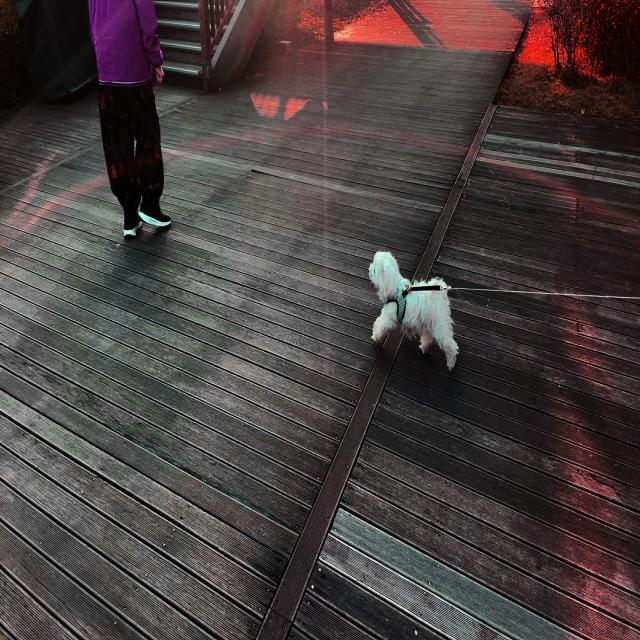Dog: (366, 249, 460, 373)
